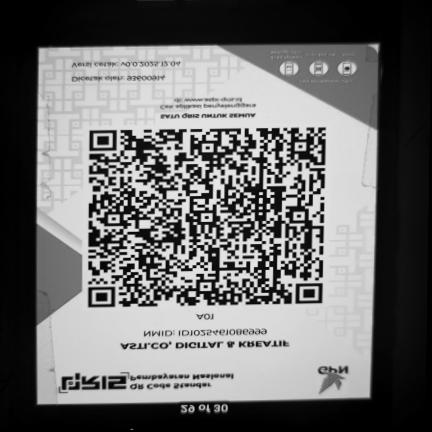Cara Pakai QRIS: (258, 46, 375, 87)
Cek Aplikasi Penyelenggara: (157, 95, 259, 111)
Dicetak Oleh: (68, 73, 169, 84)
Logo GPN: (308, 360, 357, 397)
Logo dan deskripsi QRIS: (51, 365, 249, 398)
Nama Merchant: (115, 338, 297, 353)
National Merchant ID: (138, 326, 272, 339)
QR Code: (82, 122, 333, 311)
Slogan: (157, 111, 258, 121)
Terminal ID: (191, 311, 219, 322)
Versi Cetak: (68, 58, 186, 70)
